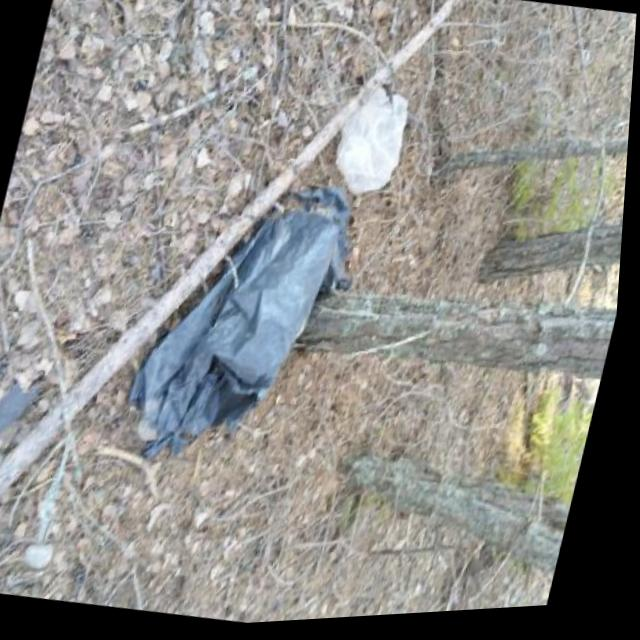plastic: (111, 156, 370, 488), (325, 79, 415, 201)
